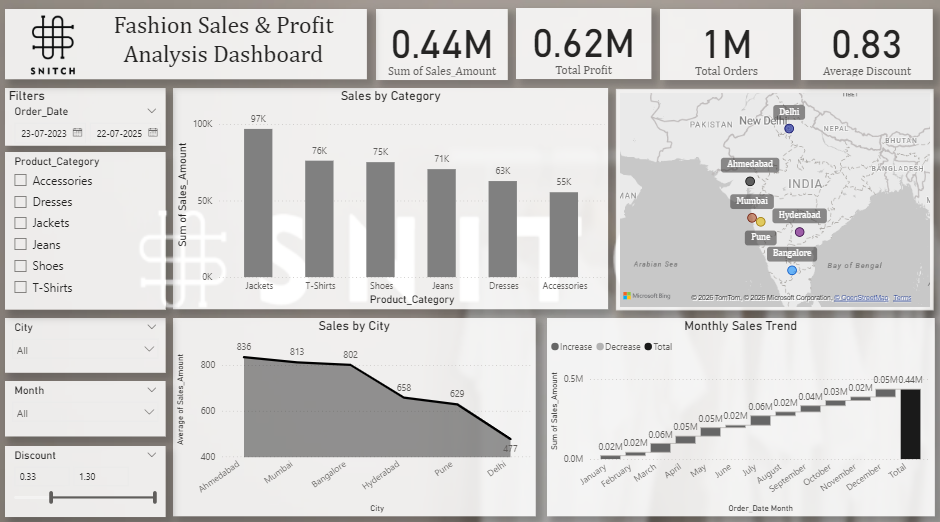

The dashboard page shown, as its layout file describes it:
{"tool":"powerbi","page":{"name":"Page 1","canvas":[1280,720],"ordinal":0},"visuals":[{"type":"card","title":"Total Sales","fields":{"Values":["Sum(Cleaned_Fashion_Sales1.Sales_Amount)"]},"box":[513,20.3,178.3,95.7],"z":0},{"type":"card","title":"Total Sales","fields":{"Values":["Sum(Cleaned_Fashion_Sales1.Profit)"]},"box":[702.9,18.8,182.6,95.7],"z":1000},{"type":"card","title":"Total Sales","fields":{"Values":["Sum(Cleaned_Fashion_Sales1.Order_ID)"]},"box":[897.1,20.3,179.7,95.7],"z":2000},{"type":"columnChart","title":"Sales by Category","fields":{"Category":["Cleaned_Fashion_Sales1.Product_Category"],"Y":["Sum(Cleaned_Fashion_Sales1.Sales_Amount)"]},"box":[239.1,127.5,588.4,298.6],"z":3000},{"type":"map","fields":{"Category":["Cleaned_Fashion_Sales1.City"],"Series":["Cleaned_Fashion_Sales1.City"]},"box":[838.2,127.9,429.4,298.5],"z":4000},{"type":"areaChart","title":"Sales by City","fields":{"Category":["Cleaned_Fashion_Sales1.City"],"Y":["Avg(Cleaned_Fashion_Sales1.Sales_Amount)"]},"box":[239.1,437.7,489.9,268.1],"z":5000},{"type":"waterfallChart","title":"Monthly Sales Trend","fields":{"Category":["Cleaned_Fashion_Sales1.Order_Date.Variation.Date Hierarchy.Month"],"Y":["Sum(Cleaned_Fashion_Sales1.Sales_Amount)"]},"box":[744.1,438.2,523.5,267.6],"z":6000},{"type":"slicer","title":"Filters","fields":{"Values":["Cleaned_Fashion_Sales1.Order_Date"]},"box":[11.6,127.5,217.4,78.3],"z":7000},{"type":"card","title":"Total Sales","fields":{"Values":["Avg(Cleaned_Fashion_Sales1.Discount_%)"]},"box":[1088.4,20.3,178.3,95.7],"z":8000},{"type":"slicer","fields":{"Values":["Cleaned_Fashion_Sales1.City"]},"box":[11.6,437.7,217.4,73.9],"z":9000},{"type":"slicer","fields":{"Values":["Cleaned_Fashion_Sales1.Product_Category"]},"box":[11.6,213,217.4,213],"z":10000},{"type":"slicer","fields":{"Values":["Cleaned_Fashion_Sales1.Order_Date.Variation.Date Hierarchy.Month"]},"box":[11.6,523.2,217.4,75.4],"z":11000},{"type":"slicer","fields":{"Values":["Cleaned_Fashion_Sales1.Discount_%"]},"box":[11.6,610.1,217.4,95.7],"z":12000},{"type":"shape","box":[12.2,20.3,489.2,94.6],"z":13000},{"type":"image","box":[12.2,9.5,129.7,128.4],"z":14000},{"type":"textbox","box":[130.4,20.3,352.2,107.2],"z":15000}]}

Visuals, with their boxes in screenshot pixels (x1, y1, x2, y2), scaled from the page's 1280x720 canvas onto the 940x522 screenshot:
"Total Sales" card: 377 15 508 84
"Total Sales" card: 516 14 650 83
"Total Sales" card: 659 15 791 84
"Sales by Category" columnChart: 176 92 608 309
map - Cleaned_Fashion_Sales1.City x Cleaned_Fashion_Sales1.City: 616 93 931 309
"Sales by City" areaChart: 176 317 535 512
"Monthly Sales Trend" waterfallChart: 546 318 931 512
"Filters" slicer: 9 92 168 149
"Total Sales" card: 799 15 930 84
slicer - Cleaned_Fashion_Sales1.City: 9 317 168 371
slicer - Cleaned_Fashion_Sales1.Product_Category: 9 154 168 309
slicer - Cleaned_Fashion_Sales1.Order_Date.Variation.Date Hierarchy.Month: 9 379 168 434
slicer - Cleaned_Fashion_Sales1.Discount_%: 9 442 168 512
shape: 9 15 368 83
image: 9 7 104 100
textbox: 96 15 354 92
